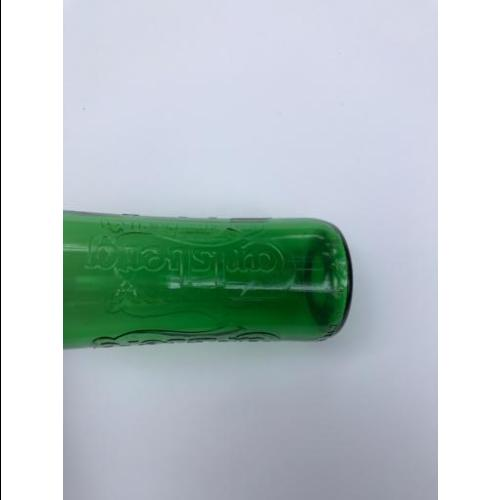glass: (62, 211, 353, 343)
